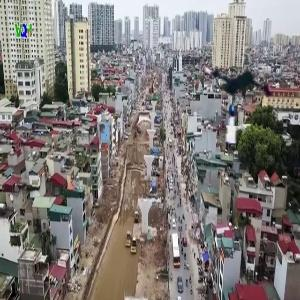drone: (197, 49, 296, 148)
